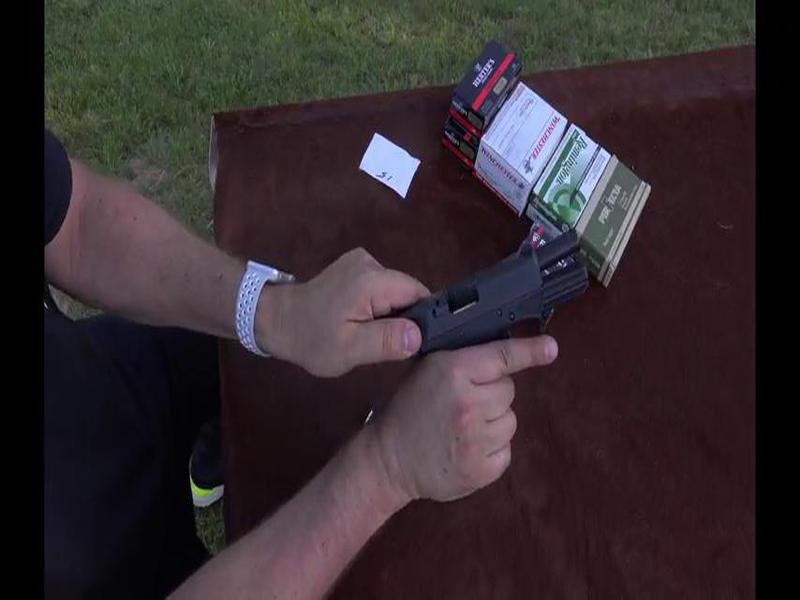Pistola: (355, 235, 613, 383)
